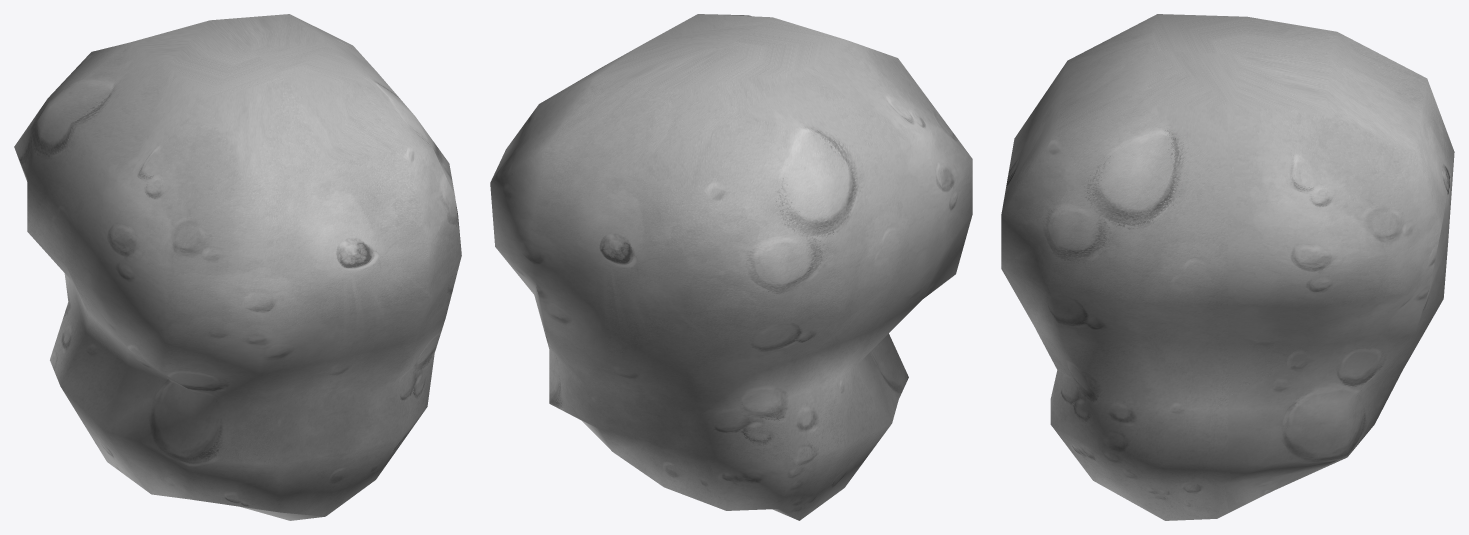
The model's file is rock0302.fbx.
The picture shows the model from 3 angles, left to right: view 1: azimuth 30°, elevation 25°; view 2: azimuth 150°, elevation 25°; view 3: azimuth 270°, elevation 25°; orthographic projection.
Parts seen in each view (by area): view 1: pCube1; view 2: pCube1; view 3: pCube1.
Boxes of the visible parts, x1=… form: pCube1: x1=14, y1=14, x2=461, y2=520; pCube1: x1=490, y1=14, x2=972, y2=520; pCube1: x1=1001, y1=14, x2=1454, y2=520.
Bounding box in the file's own units: 116 × 140 × 126.
1 material, 1 textured.
